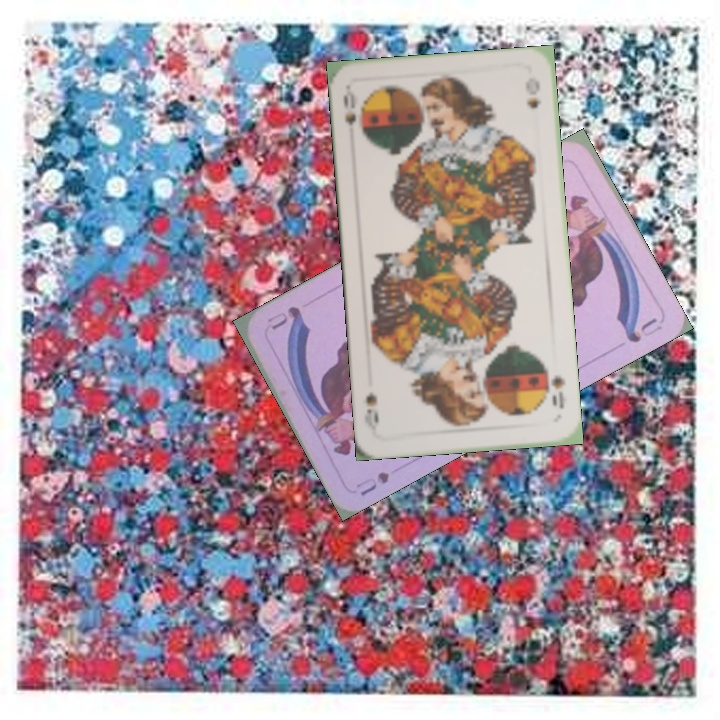SO: (542, 363, 568, 411), (339, 85, 358, 128)
SU: (351, 467, 392, 498)
